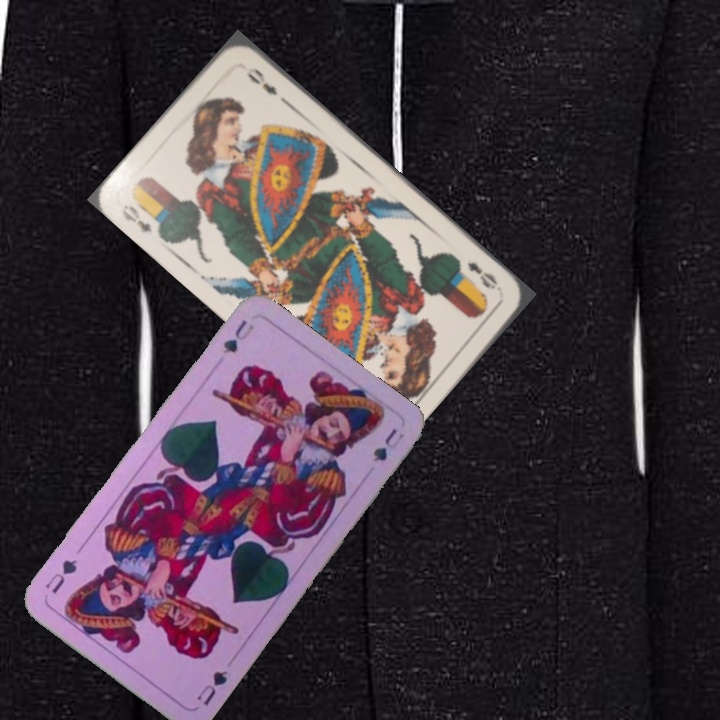EO: (463, 257, 501, 292), (117, 200, 155, 235)
GU: (192, 666, 231, 709), (219, 316, 257, 356)
